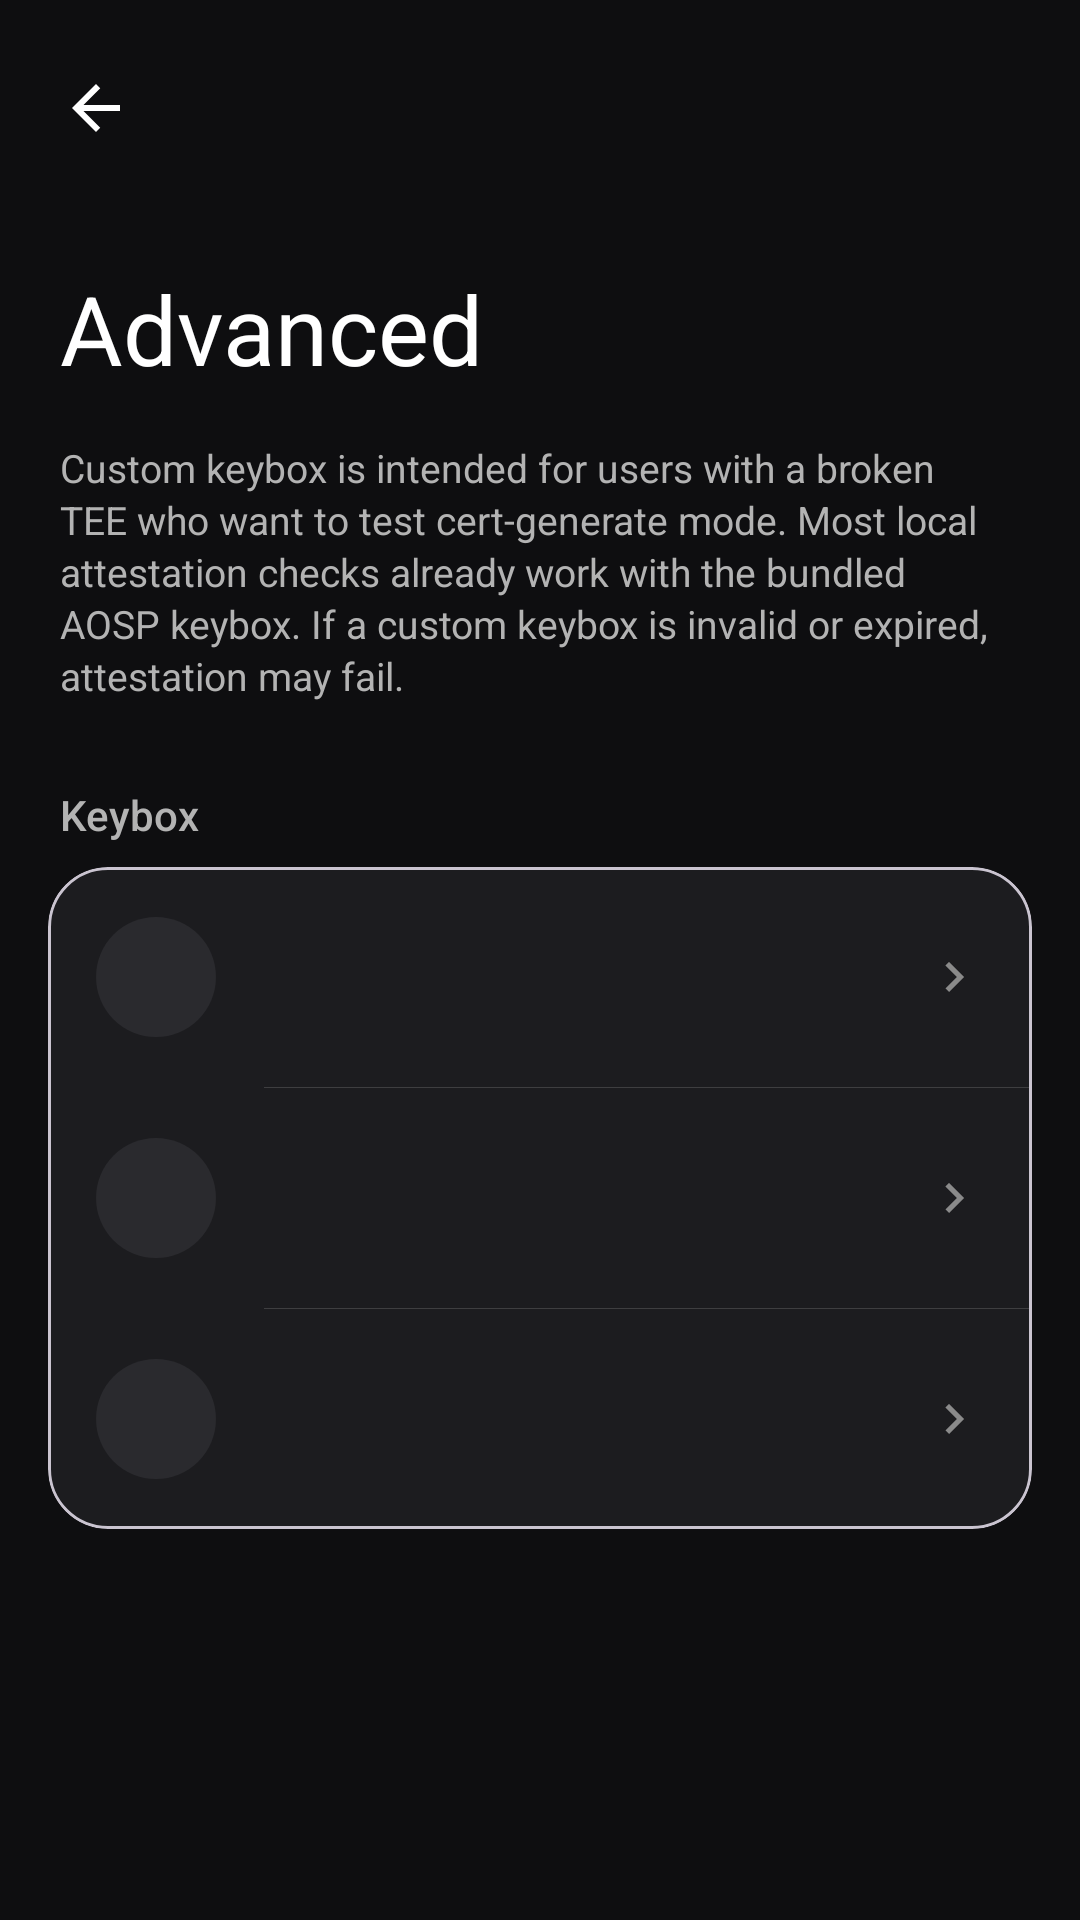

Screen size 1080×1920. Icon name, then its center in pixels as [x,y]:
arrow back: [96,108]
chevron right: [954,977], [954,1198], [954,1419]
